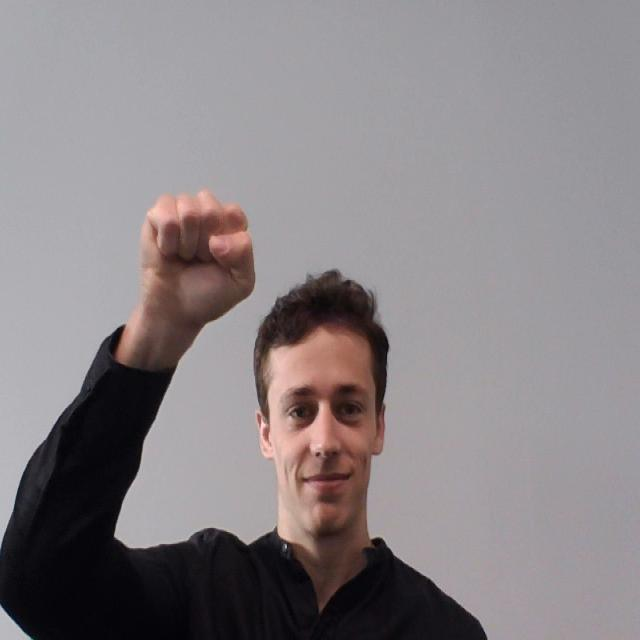stop: (114, 182, 258, 338)
